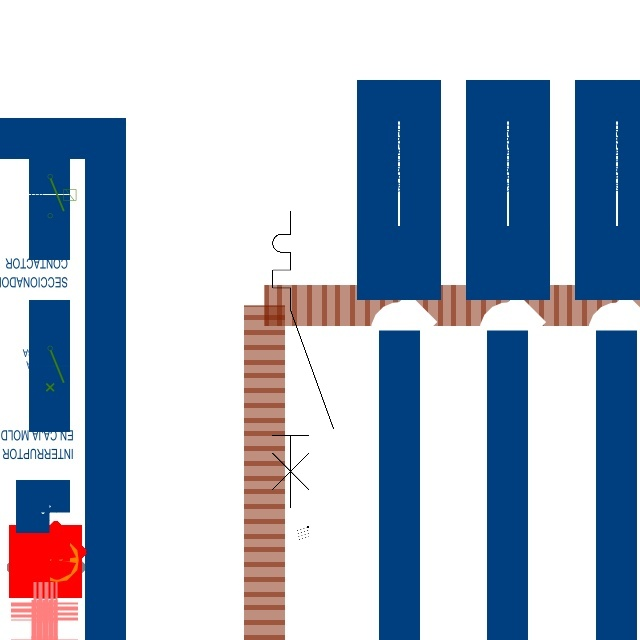interruptor_termomagnetico: (265, 204, 341, 515)
